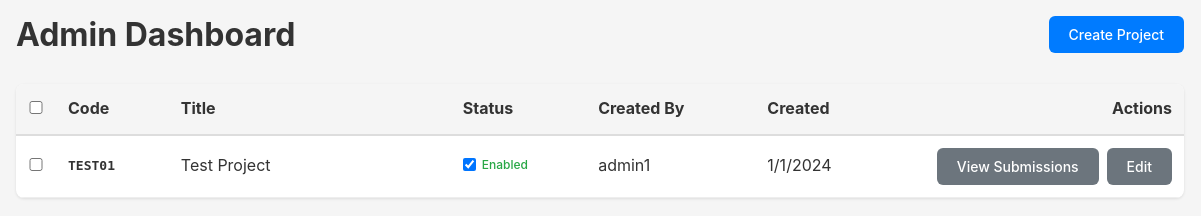
Test: AdminDashboard › Project Enable/Disable Toggle › should disable toggle button while request is pending
Check: the text "Test Project" is shown, box [169,135,451,197]
Click the checkbox labelled "Enabled" at (469, 165), box [463,158,476,171]
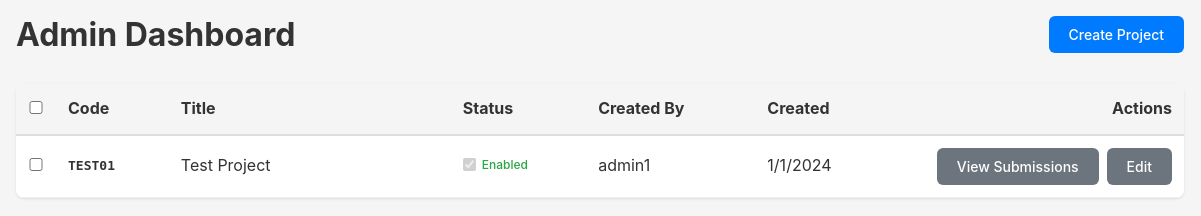
Check: the checkbox labelled "Enabled" is disabled, box [463,158,476,171]
